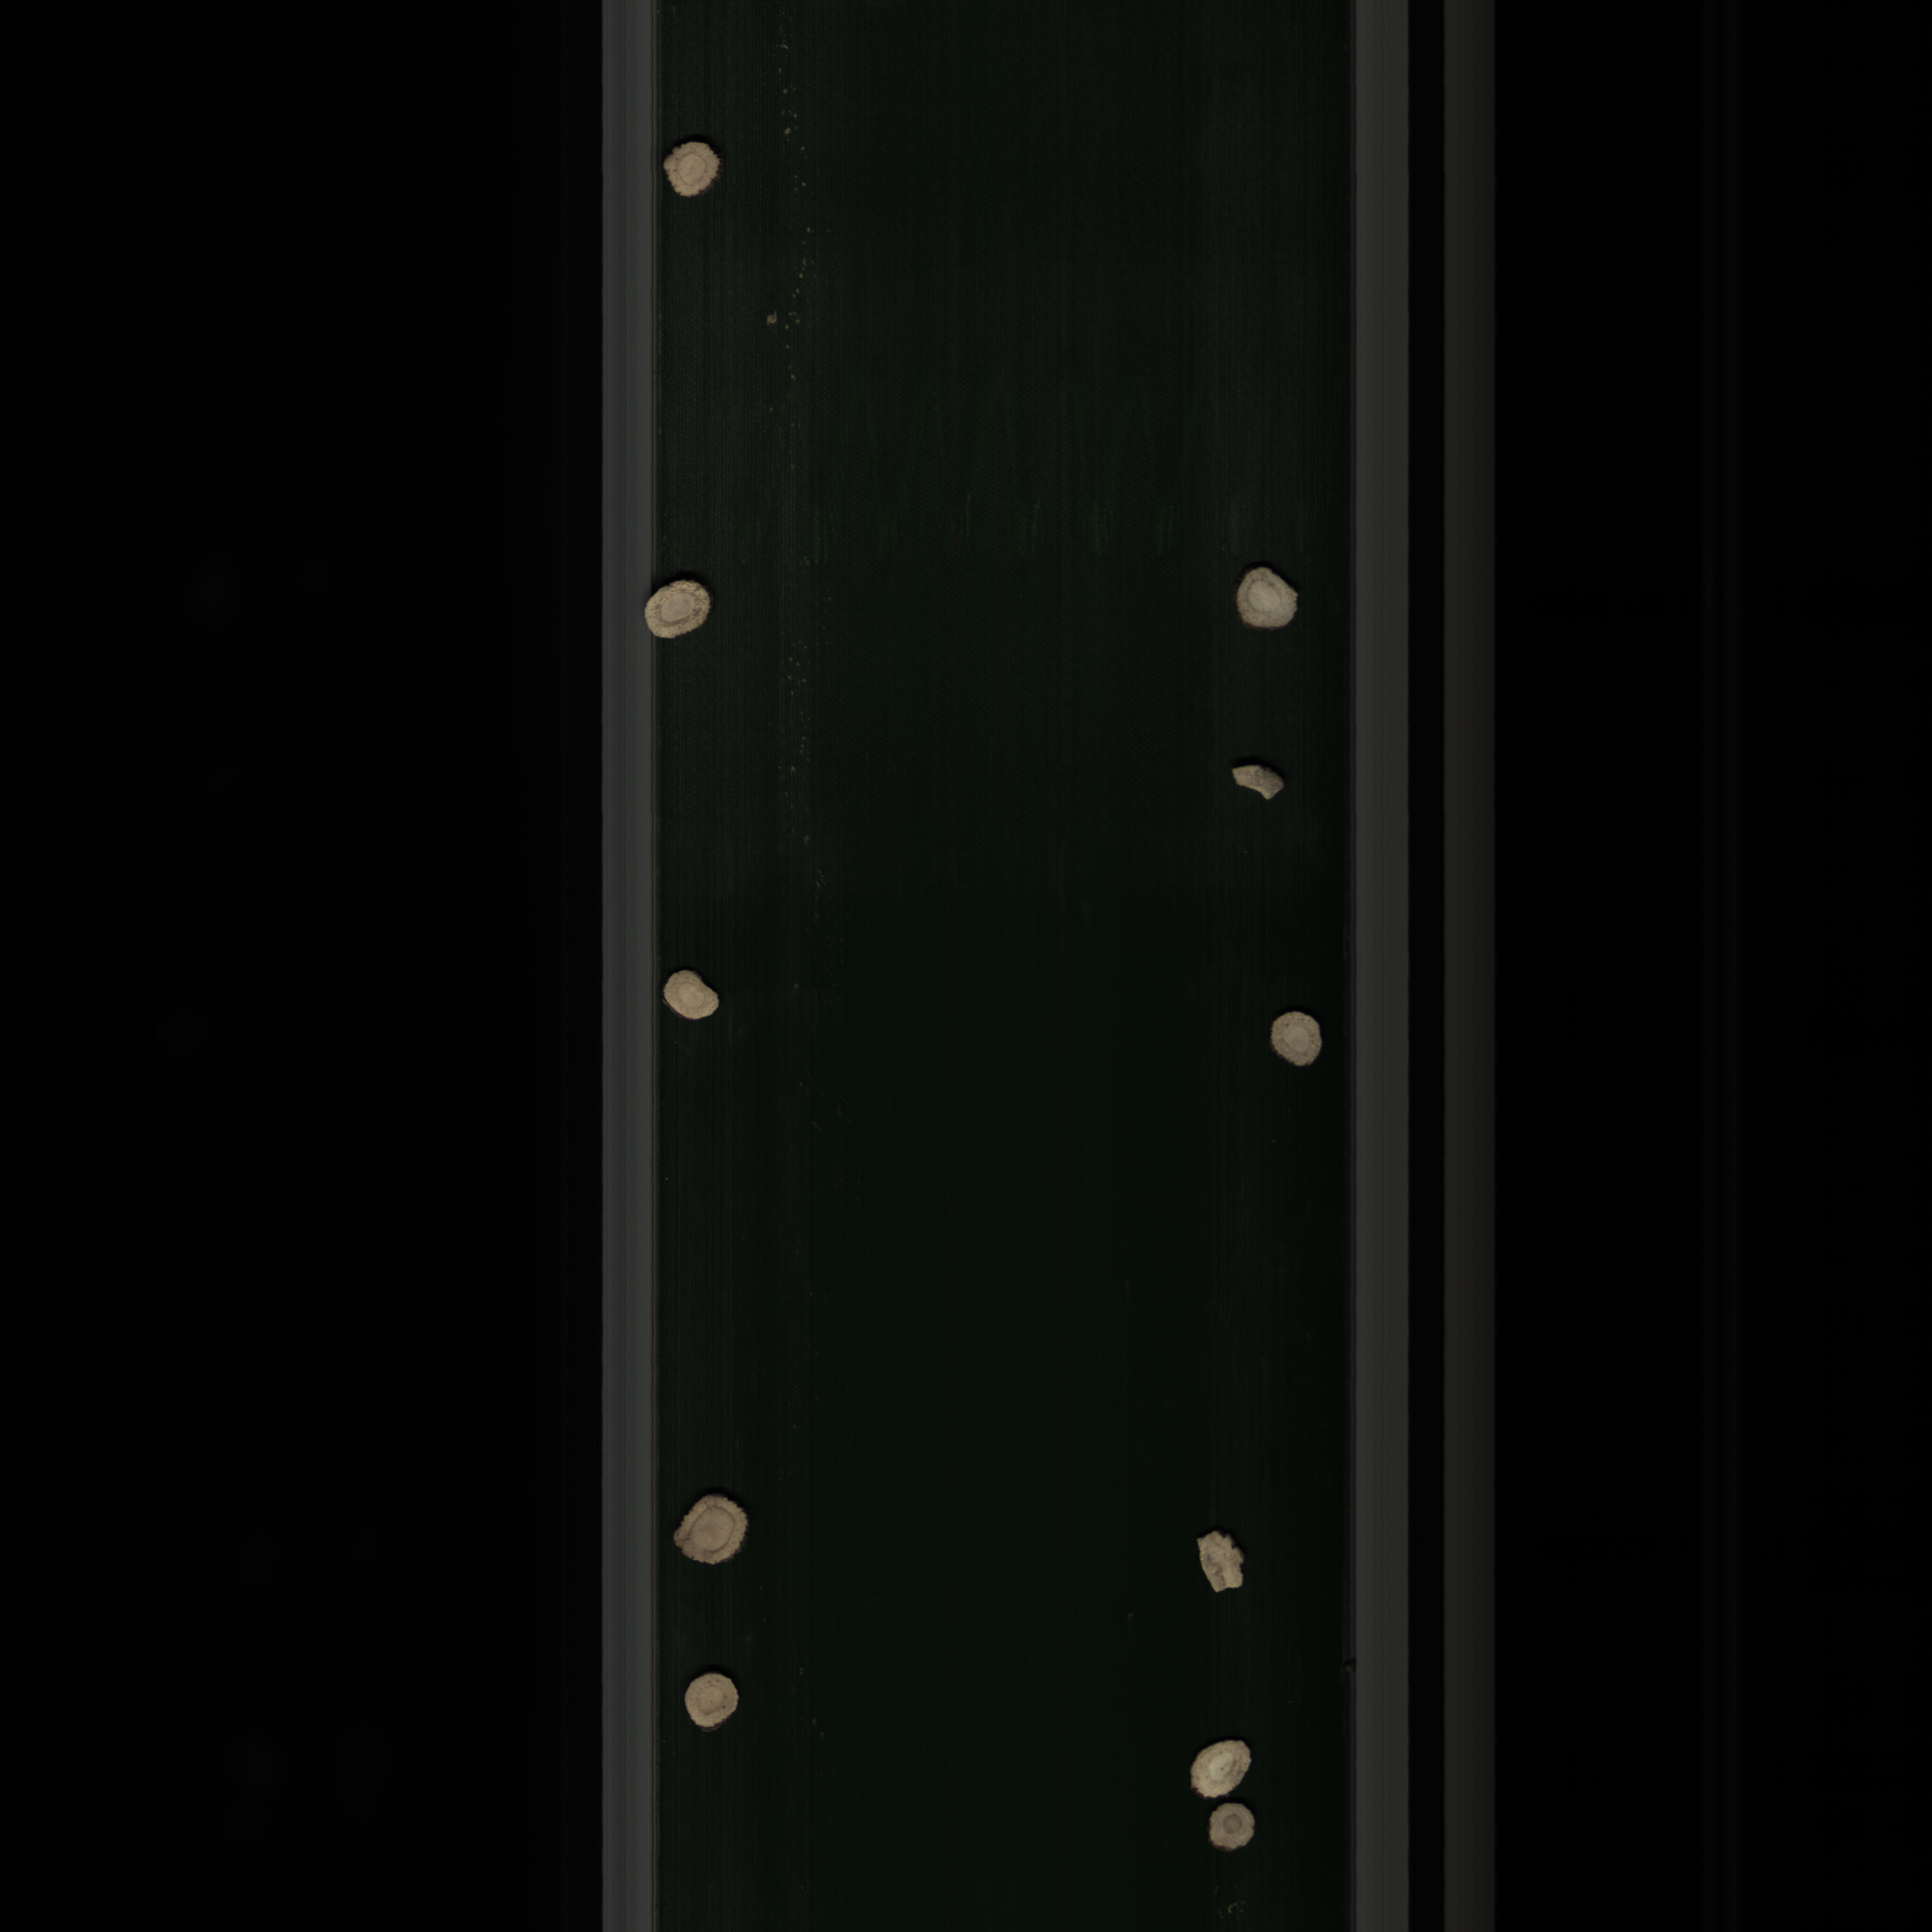debris: (1189, 1525, 1256, 1610), (1226, 759, 1293, 805)
moldy: (660, 136, 731, 203)
